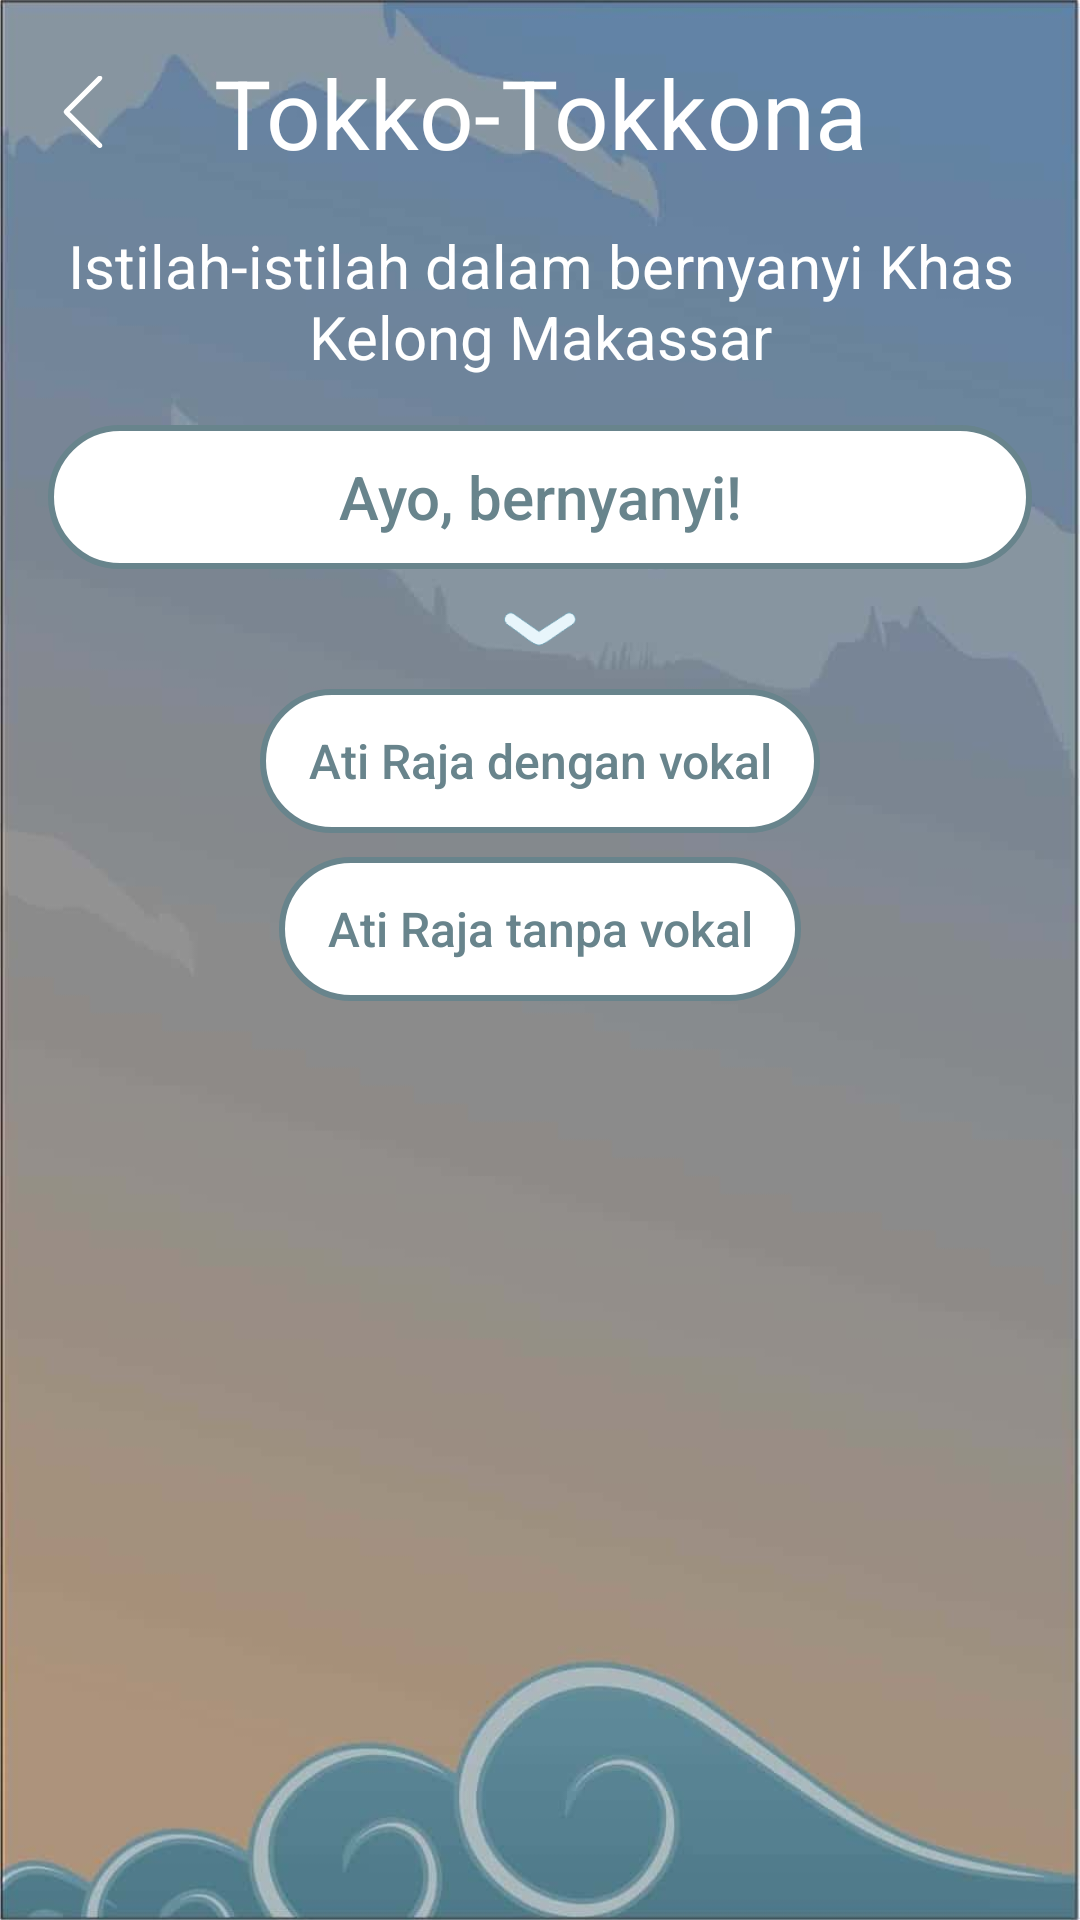

Named icons in this screenshot (1080px x 1920px) and their bounding boxes, (x1, y1, x2, y2):
back: (52, 76, 120, 148)
pull down menu: (504, 613, 576, 645)
